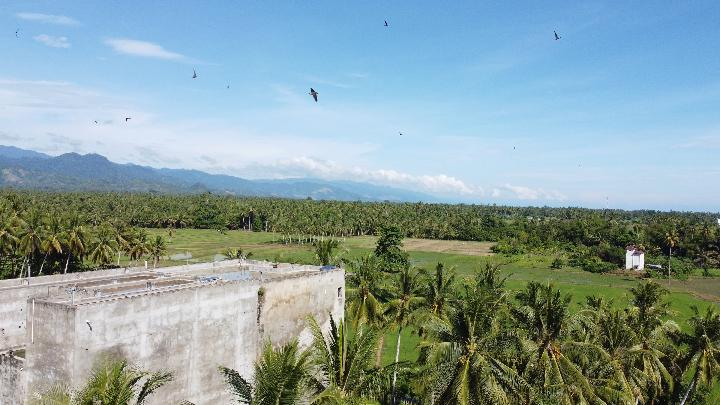walet: (306, 86, 320, 100)
